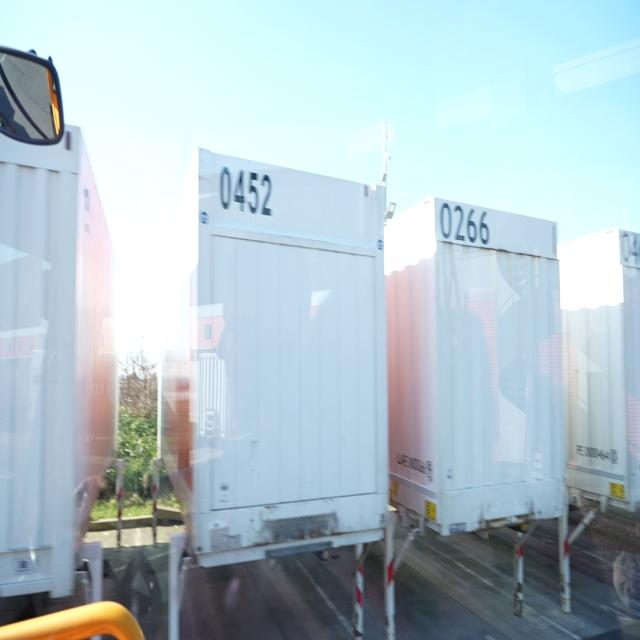Code: (216, 159, 277, 224), (435, 193, 495, 257)
